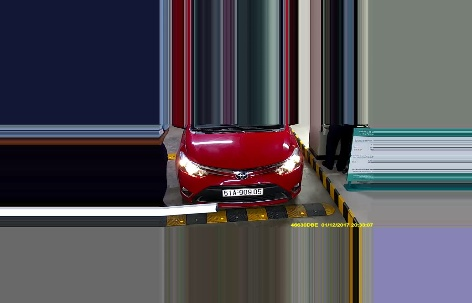plate: (222, 185, 264, 196)
